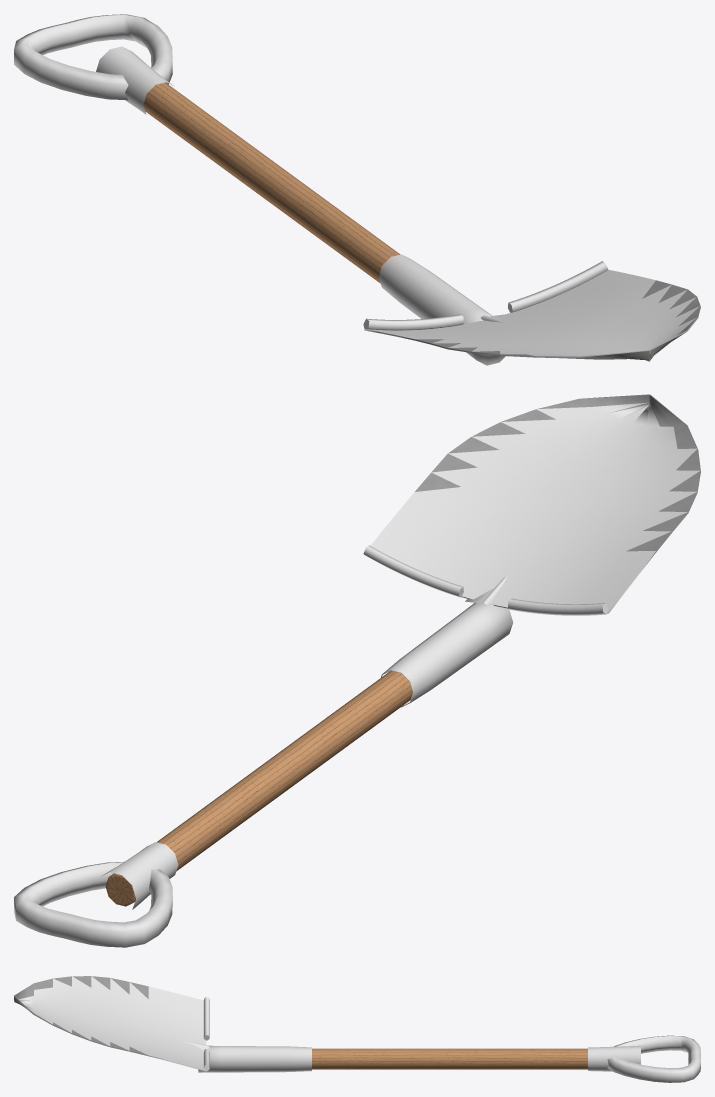
File: dig_shovel.lod2.glb
3 views of the same model, one above another, from view 1: azimuth 30°, elevation 25°; view 2: azimuth 150°, elevation 25°; view 3: azimuth 270°, elevation 25° (orthographic). The views are drawn at different scales.
Parts seen in each view (by area): view 1: Tool; view 2: Tool; view 3: Tool.
Boxes of the visible parts, bbox=[...] form: Tool: bbox=[14, 14, 700, 365]; Tool: bbox=[14, 394, 700, 947]; Tool: bbox=[14, 976, 700, 1082].
Bounding box in the file's own units: 0.2506 × 0.1258 × 1.04.
4 materials, 4 textured.
